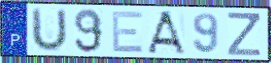9: (73, 7, 104, 54), (191, 12, 220, 55)
A: (145, 10, 187, 56)
E: (110, 10, 145, 55)
U: (29, 6, 69, 53)
Z: (227, 11, 263, 57)
